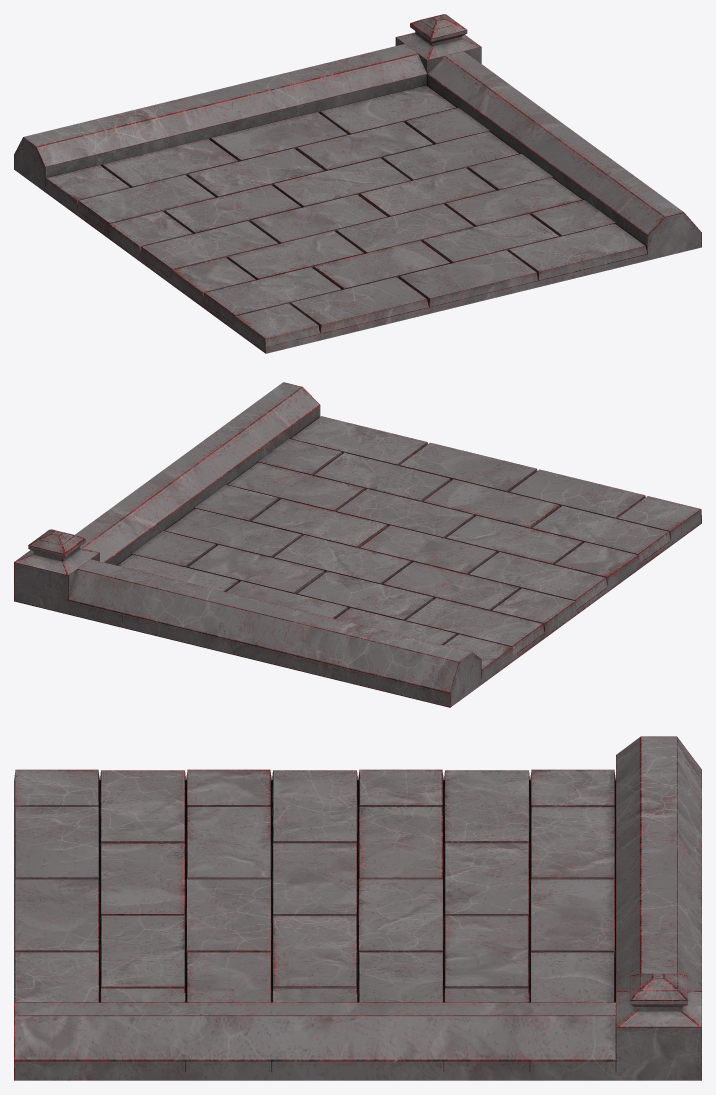
The model's file is Sidewalk_corner.fbx.
3 renders of one model, top to bottom at view 1: azimuth 30°, elevation 25°; view 2: azimuth 150°, elevation 25°; view 3: azimuth 270°, elevation 25°, orthographic. The views are drawn at different scales.
Parts seen in each view (by area): view 1: rog; view 2: rog; view 3: rog.
Boxes of the visible parts, x1,y1,x2,y2 form: rog: [14, 14, 701, 353]; rog: [14, 382, 701, 707]; rog: [14, 736, 701, 1080].
Size of the model in its own units: 300 by 41.6 by 300.
1 material, 1 textured.
